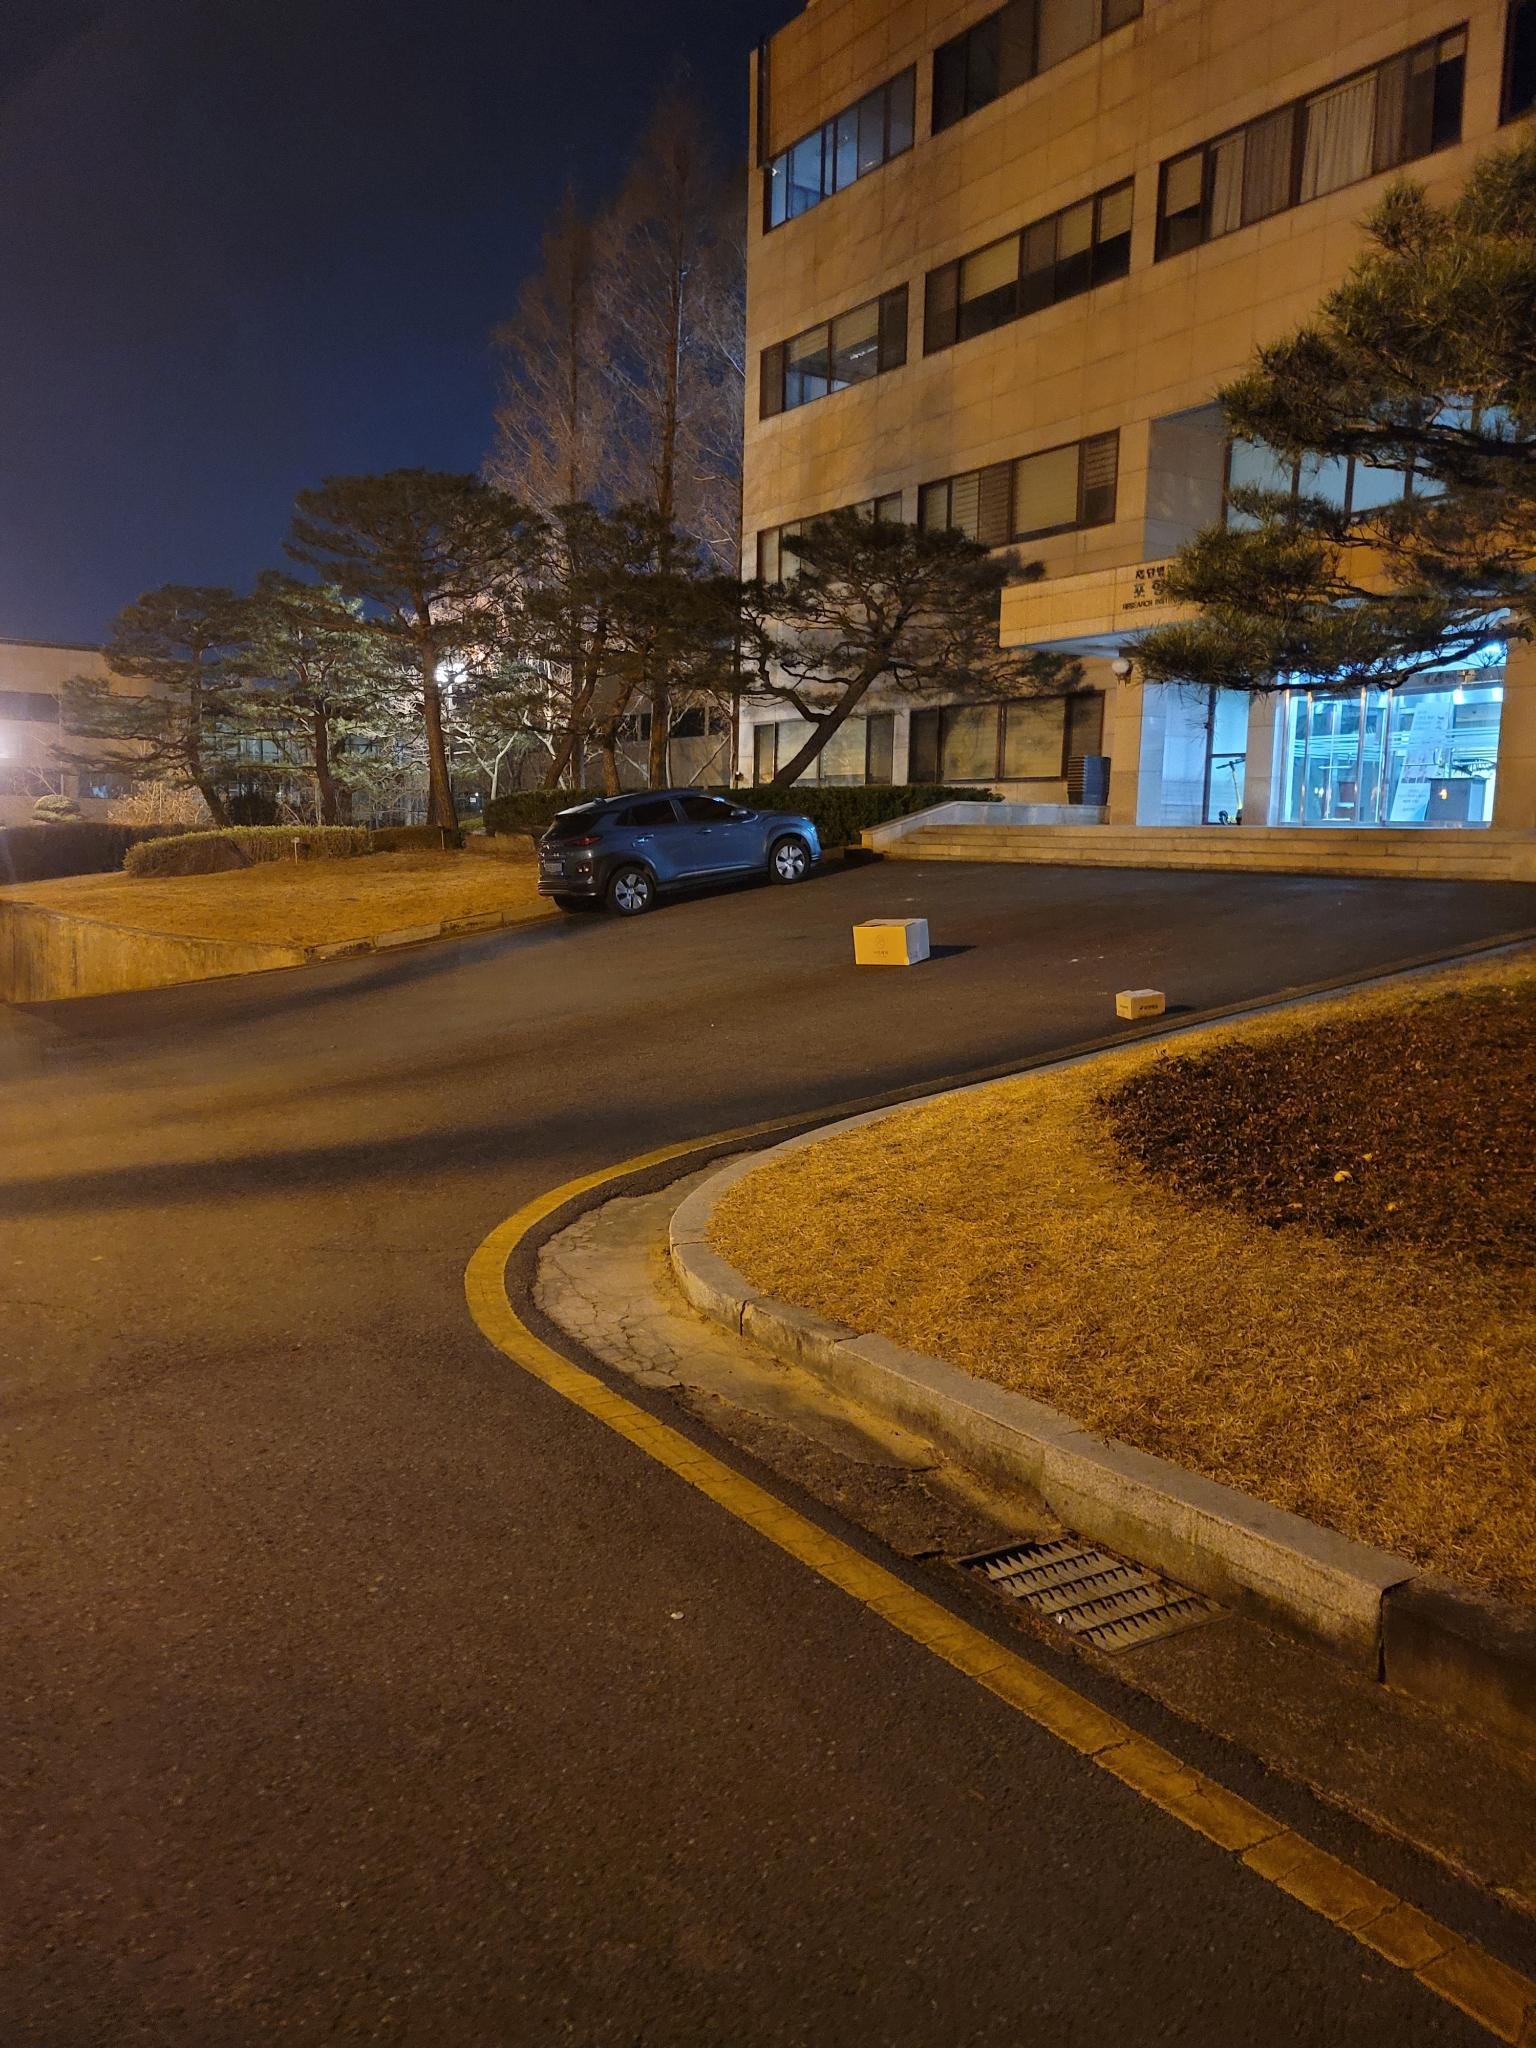Box: (836, 905, 942, 977), (1105, 977, 1167, 1018)
